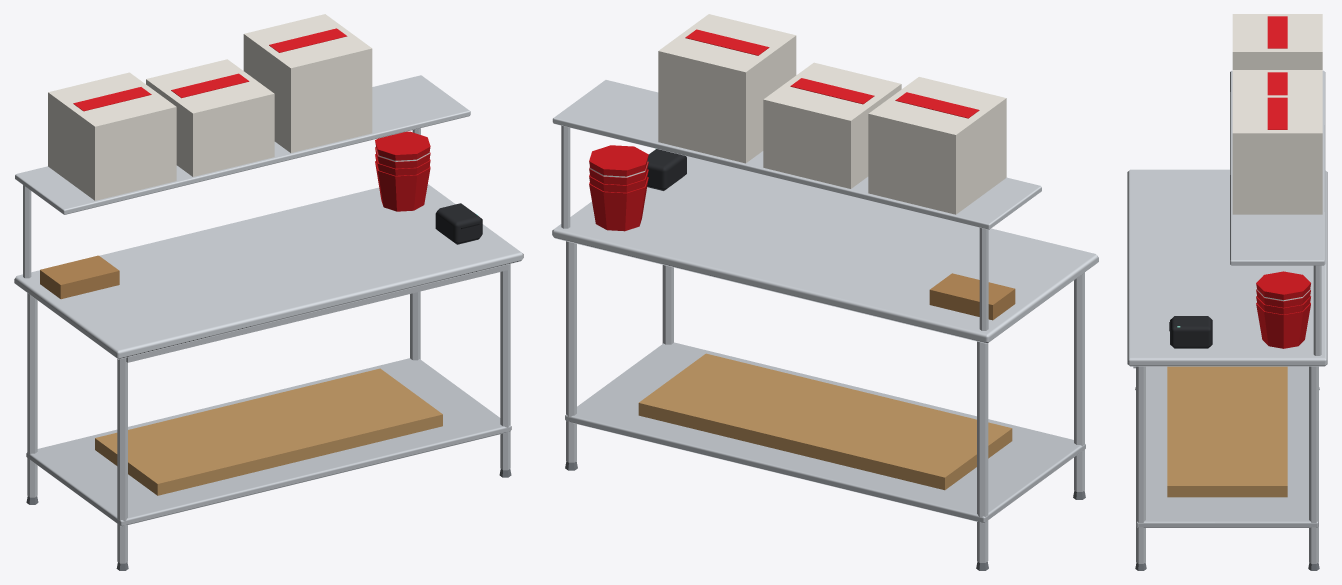
Rendered from packaging-table.lod1.glb.
3 views of the same model, side by side, from view 1: azimuth 30°, elevation 25°; view 2: azimuth 150°, elevation 25°; view 3: azimuth 270°, elevation 25° (orthographic). The views are drawn at different scales.
Parts seen in each view (by area): view 1: BODY, PROPS; view 2: BODY, PROPS; view 3: BODY, PROPS.
Part boxes in pixels (x1,y1,x2,y2): BODY: [14, 75, 523, 570]; PROPS: [40, 14, 442, 495]; BODY: [552, 80, 1098, 570]; PROPS: [589, 14, 1015, 490]; BODY: [1127, 70, 1327, 570]; PROPS: [1167, 14, 1322, 497].
Size of the model in its own units: 1.8 by 1.74 by 0.7999.
